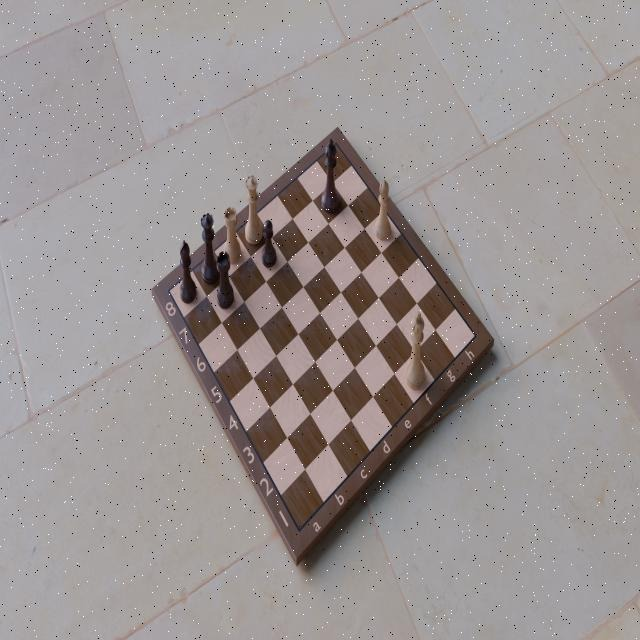black-bishop: (178, 236, 198, 304)
black-king: (321, 136, 343, 216)
black-pawn: (261, 218, 278, 269)
black-queen: (199, 210, 221, 285)
black-rook: (215, 249, 235, 310)
white-bishop: (374, 177, 394, 243)
white-king: (402, 310, 427, 394)
white-queen: (244, 173, 266, 246)
white-rook: (223, 205, 243, 266)
